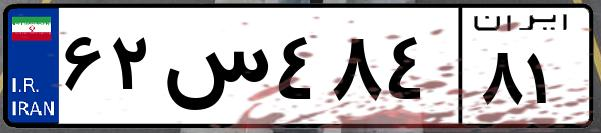1: (525, 38, 570, 115)
2: (110, 28, 158, 98)
4: (270, 28, 330, 110), (385, 28, 445, 110)
6: (57, 26, 110, 100)
8: (330, 28, 385, 110), (475, 38, 525, 113)
س: (158, 20, 270, 120)
